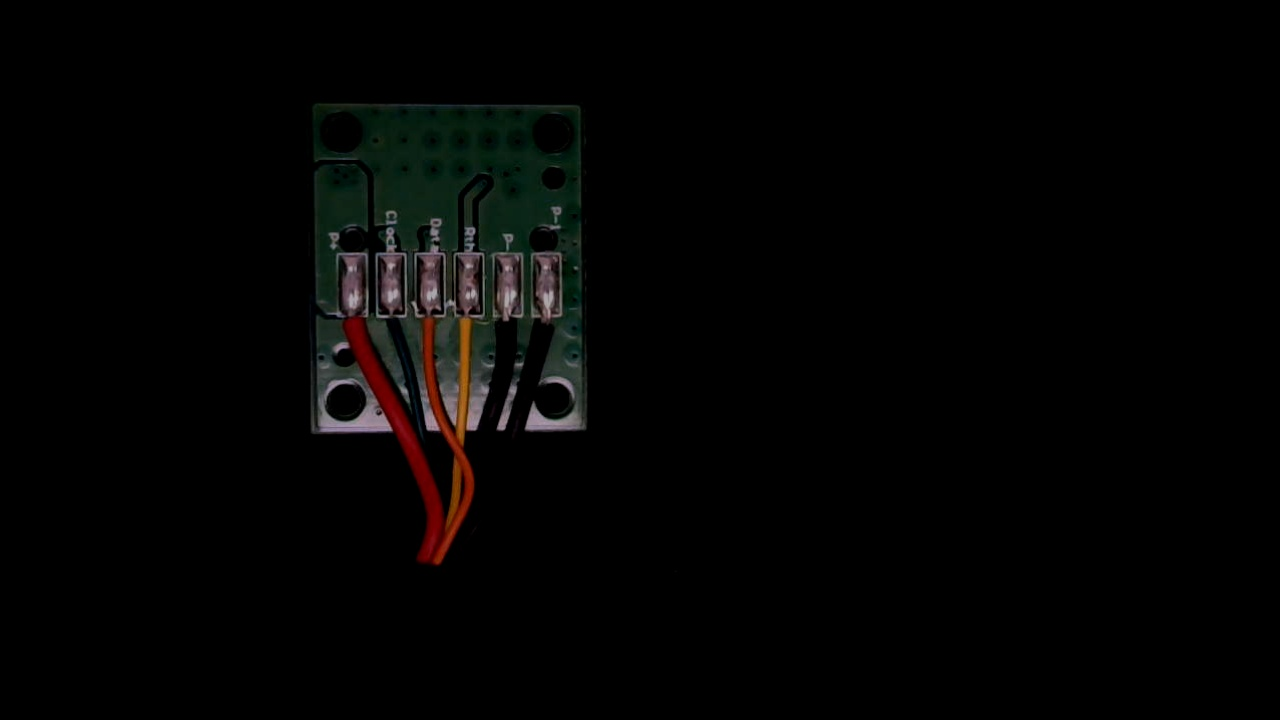Black: (488, 298, 525, 373)
Black1: (530, 298, 562, 358)
Green: (375, 300, 412, 361)
Orange: (413, 300, 445, 360)
Red: (338, 300, 371, 361)
Yellow: (451, 300, 485, 360)
